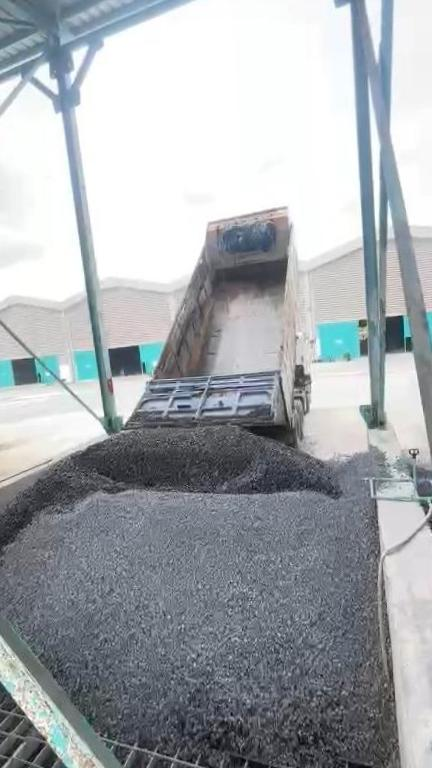gravel: (0, 444, 400, 768), (0, 427, 342, 563), (0, 648, 28, 720), (418, 463, 432, 496), (431, 502, 432, 563)
sand: (0, 442, 11, 493)
